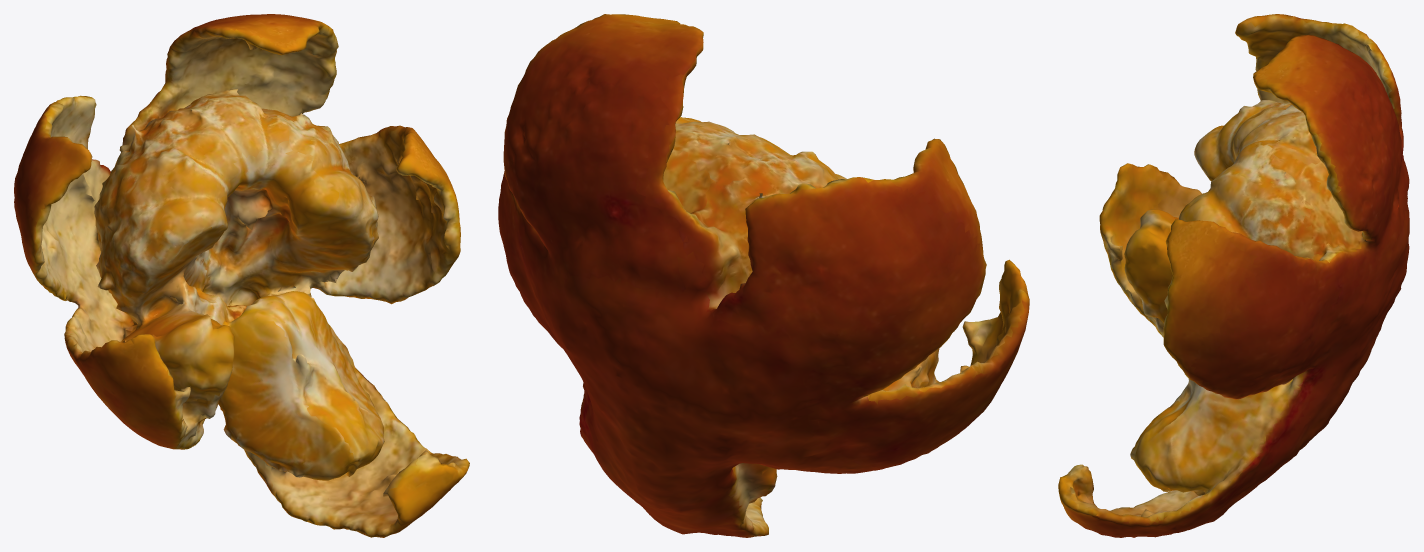
The model's file is MandarinOrange.glb.
The picture shows the model from 3 angles, left to right: view 1: azimuth 30°, elevation 25°; view 2: azimuth 150°, elevation 25°; view 3: azimuth 270°, elevation 25°; orthographic projection. The views are drawn at different scales.
Parts seen in each view (by area): view 1: MandarinOrange; view 2: MandarinOrange; view 3: MandarinOrange.
Part boxes in pixels (left/top/right/bottom): MandarinOrange: left=14, top=14, right=469, bottom=537; MandarinOrange: left=498, top=14, right=1029, bottom=537; MandarinOrange: left=1058, top=14, right=1409, bottom=537.
Size of the model in its own units: 0.0157 by 0.0174 by 0.0119.
Materials: 1 (1 with a texture image).
